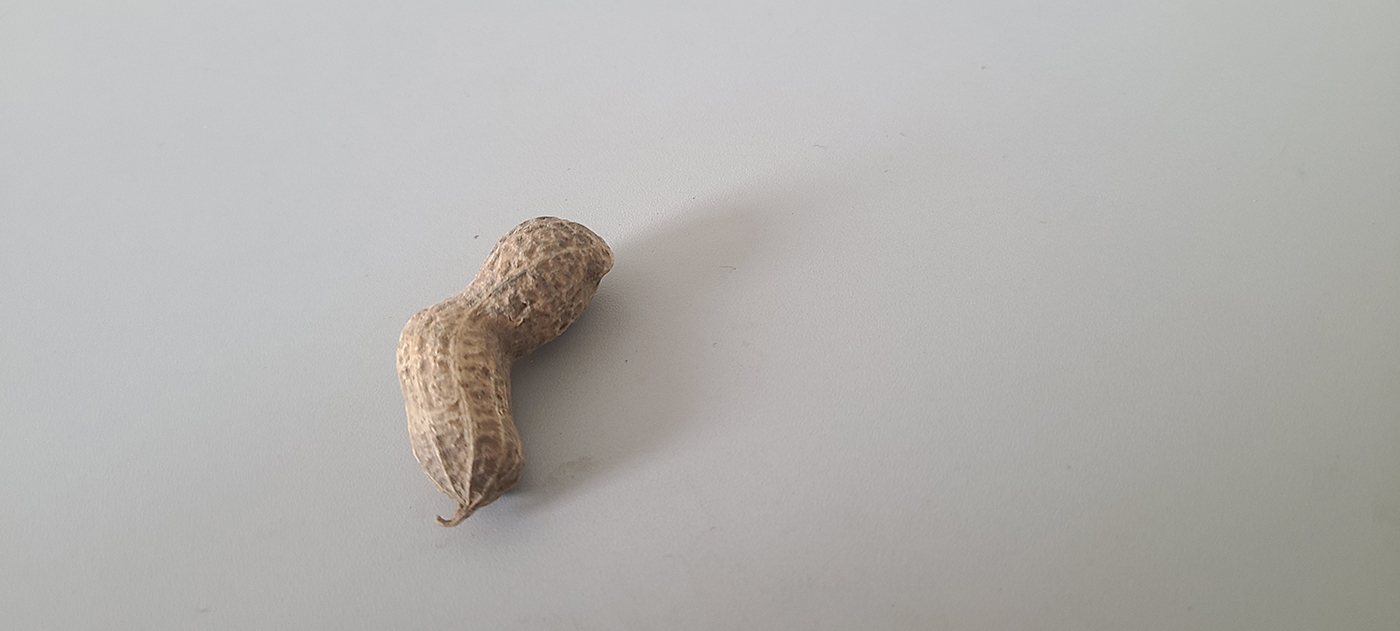h: (394, 213, 614, 507)
